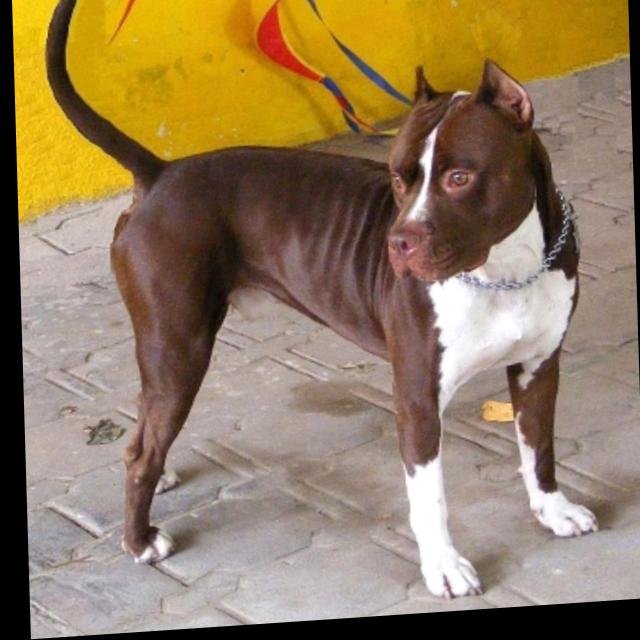am_pit_bull_terrier: (45, 1, 602, 626)
